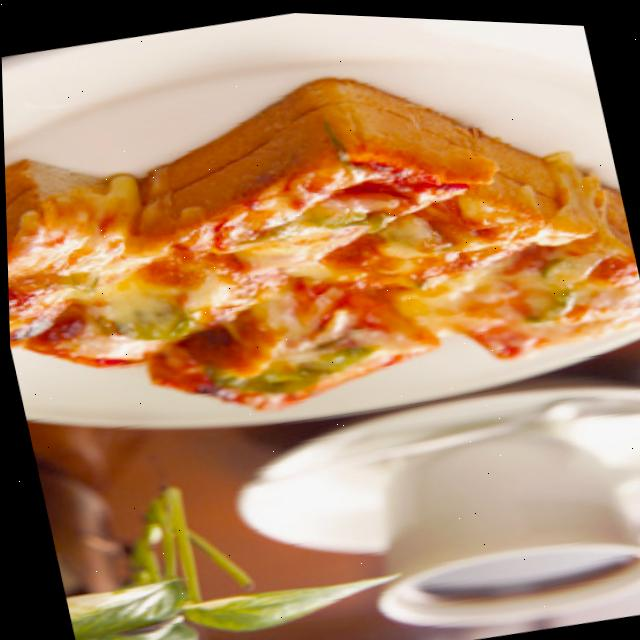面包点心: (0, 0, 640, 503)
